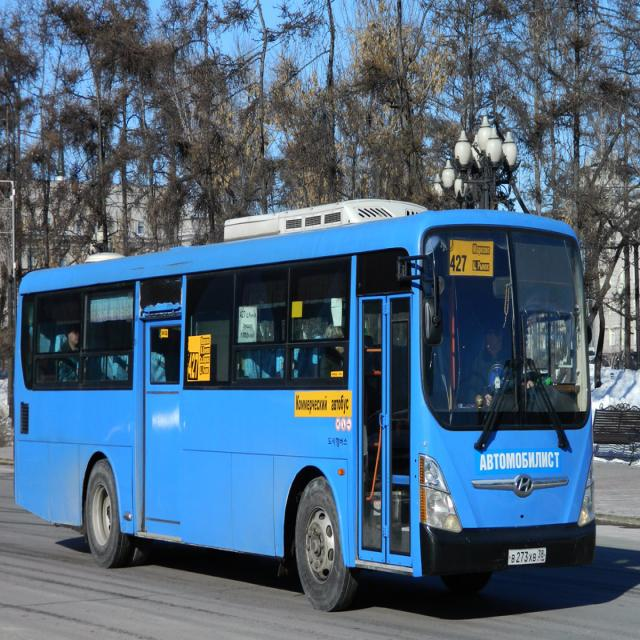number-of-bus: (450, 251, 469, 277), (188, 353, 200, 381)
